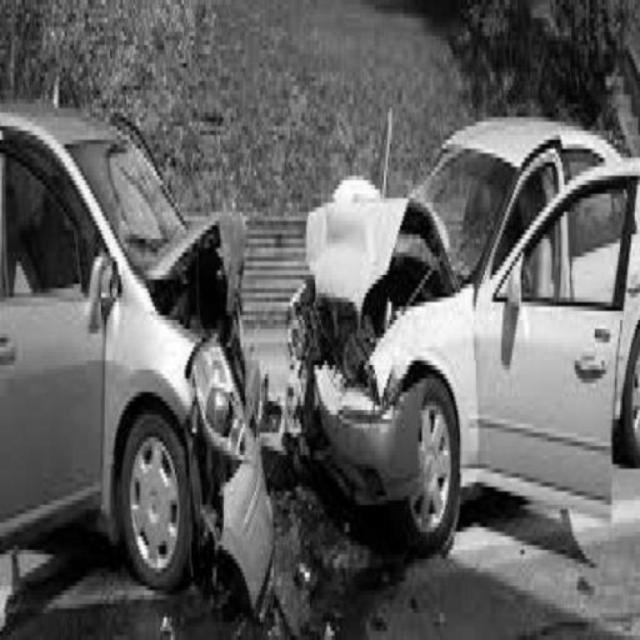accident: (10, 119, 624, 567)
